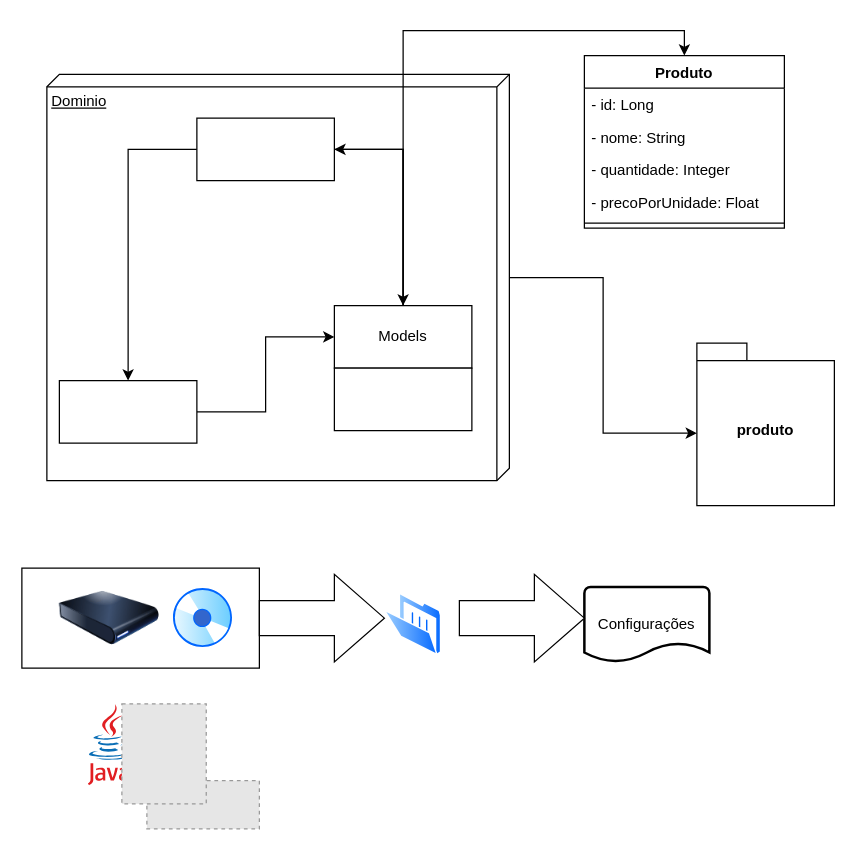
The diagram is 856 pixels wide and 851 high, and some of its shapes have lost their labels. Grey dashed boxes stand in for pictures. Here are the shapes that lost their labels. From the top down, the centre of each, then its label:
point (265, 149): Controllers
point (127, 411): View
point (402, 399): DAO
